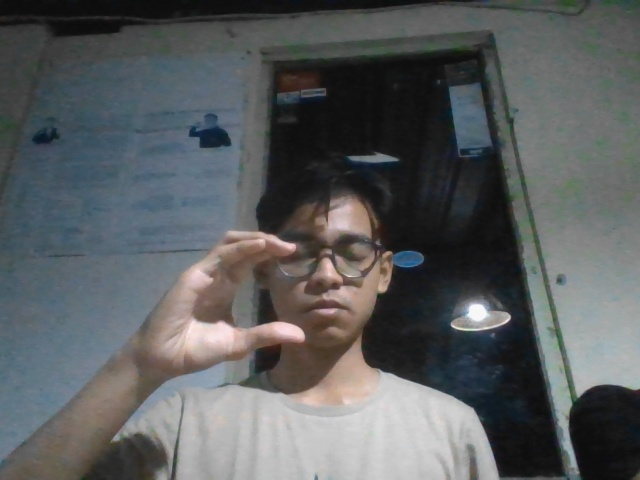C: (129, 220, 316, 380)
